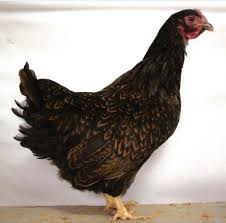chicken: (6, 3, 219, 223)
